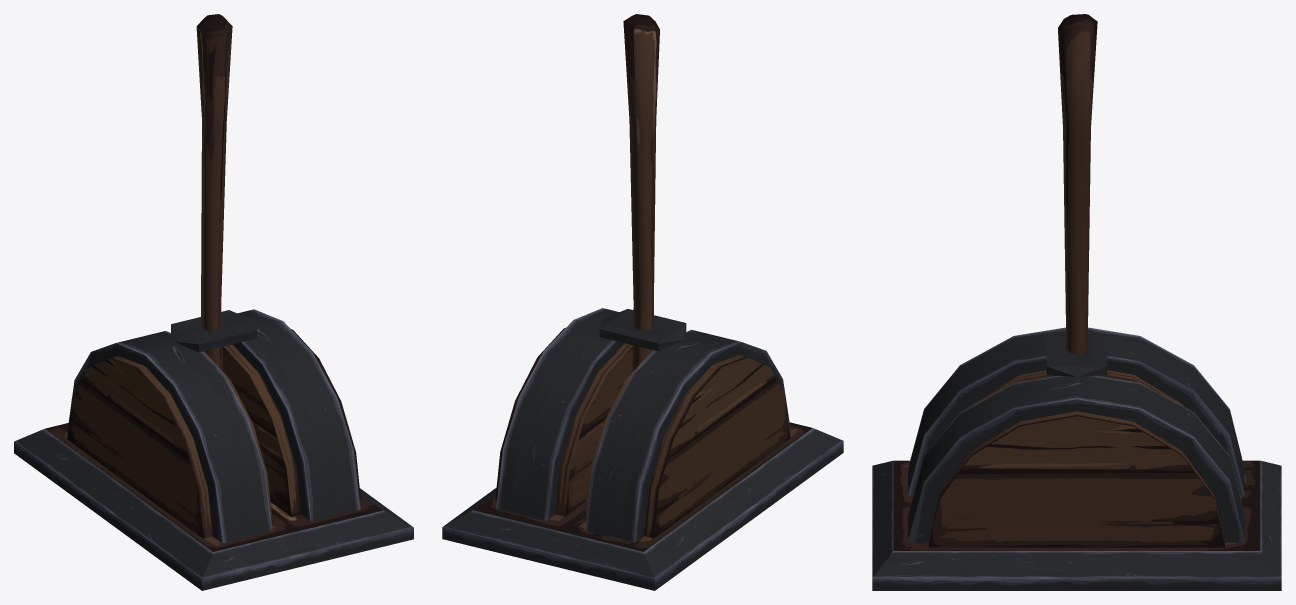
Rendered from SM_PROP_lever_dungeon_01.fbx.
3 renders of one model, left to right at view 1: azimuth 30°, elevation 25°; view 2: azimuth 150°, elevation 25°; view 3: azimuth 270°, elevation 25°, orthographic. The views are drawn at different scales.
Visible parts, largest first — view 1: SM_PROP_lever_dungeon_01, SM_PROP_lever_handle_dungeon_01; view 2: SM_PROP_lever_dungeon_01, SM_PROP_lever_handle_dungeon_01; view 3: SM_PROP_lever_dungeon_01, SM_PROP_lever_handle_dungeon_01.
Part boxes in pixels (x1=…): SM_PROP_lever_dungeon_01: x1=14, y1=309, x2=413, y2=590; SM_PROP_lever_handle_dungeon_01: x1=171, y1=14, x2=256, y2=371; SM_PROP_lever_dungeon_01: x1=442, y1=308, x2=843, y2=590; SM_PROP_lever_handle_dungeon_01: x1=599, y1=14, x2=686, y2=371; SM_PROP_lever_dungeon_01: x1=872, y1=327, x2=1281, y2=590; SM_PROP_lever_handle_dungeon_01: x1=1046, y1=14, x2=1107, y2=376.
Size of the model in its own units: 55.4 by 120 by 85.23.
